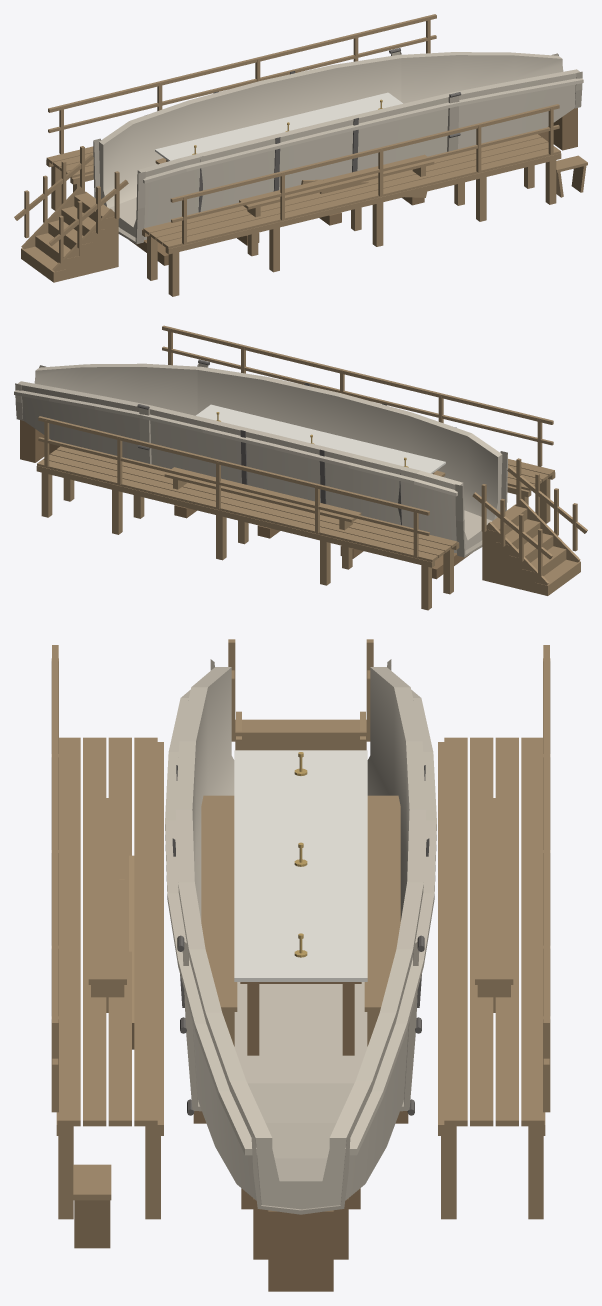
The model's file is hawkins-mould-and-table.glb.
3 views of the same model, one above another, from view 1: azimuth 30°, elevation 25°; view 2: azimuth 150°, elevation 25°; view 3: azimuth 270°, elevation 25° (orthographic). The views are drawn at different scales.
Parts seen in each view (by area): view 1: Mould_BodySection, Table_StairsRails, Table_Platform, Mould_TailSection, Table_Cloth, Table_Benches, Mould_Cradle, Mould_NeckFlange, Table_TrestleStool, Mould_JointFlange; view 2: Mould_BodySection, Table_StairsRails, Table_Platform, Mould_TailSection, Table_Cloth, Table_Benches, Mould_Cradle, Mould_NeckFlange, Mould_JointFlange; view 3: Table_Platform, Mould_BodySection, Table_Cloth, Mould_TailSection, Table_Benches, Table_StairsRails, Mould_Cradle, Table_TrestleStool, Table_DinnerTable, Mould_JointFlange, Mould_TailFlange, Mould_SparePlanks.
Part boxes in pixels (bbox=[...]): Mould_BodySection: bbox=[99, 55, 455, 239]; Table_StairsRails: bbox=[14, 14, 559, 282]; Table_Platform: bbox=[46, 134, 561, 296]; Mould_TailSection: bbox=[397, 52, 583, 148]; Table_Cloth: bbox=[155, 92, 402, 161]; Table_Benches: bbox=[155, 154, 434, 217]; Mould_Cradle: bbox=[129, 108, 577, 265]; Mould_NeckFlange: bbox=[93, 138, 145, 244]; Table_TrestleStool: bbox=[556, 155, 587, 197]; Mould_JointFlange: bbox=[391, 51, 459, 151]; Mould_BodySection: bbox=[143, 367, 502, 552]; Table_StairsRails: bbox=[38, 325, 587, 595]; Table_Platform: bbox=[36, 446, 555, 610]; Mould_TailSection: bbox=[14, 363, 201, 461]; Table_Cloth: bbox=[196, 404, 445, 473]; Table_Benches: bbox=[164, 467, 445, 530]; Mould_Cradle: bbox=[20, 420, 471, 579]; Mould_NeckFlange: bbox=[455, 451, 507, 557]; Mould_JointFlange: bbox=[139, 363, 208, 464]; Table_Platform: bbox=[56, 737, 545, 1219]; Mould_BodySection: bbox=[165, 667, 436, 1099]; Table_Cloth: bbox=[234, 750, 367, 981]; Mould_TailSection: bbox=[178, 949, 423, 1209]; Table_Benches: bbox=[88, 795, 513, 1046]; Table_StairsRails: bbox=[51, 639, 550, 1112]; Mould_Cradle: bbox=[193, 1111, 408, 1291]; Table_TrestleStool: bbox=[73, 1164, 111, 1248]; Table_DinnerTable: bbox=[240, 982, 361, 1055]; Mould_JointFlange: bbox=[182, 942, 419, 1111]; Mould_TailFlange: bbox=[251, 1130, 350, 1214]; Mould_SparePlanks: bbox=[119, 855, 134, 1049].
Bounding box in the file's own units: 10.42 × 1.96 × 4.18.
